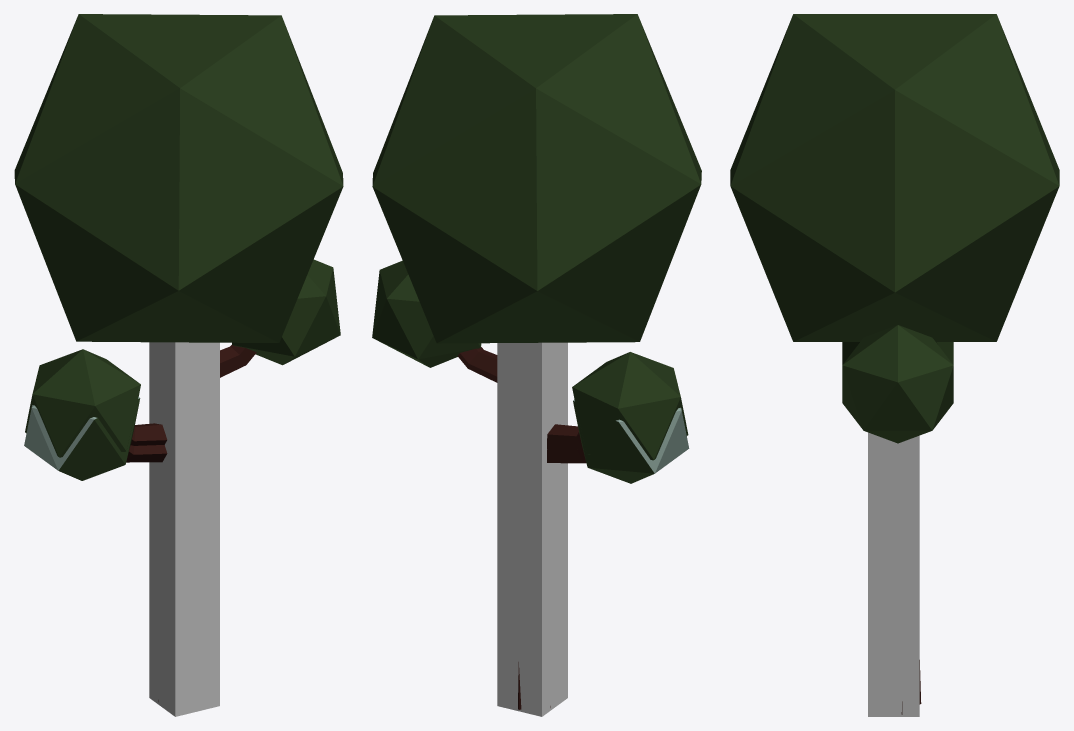
Rendered from tree.obj.
3 renders of one model, left to right at view 1: azimuth 30°, elevation 25°; view 2: azimuth 150°, elevation 25°; view 3: azimuth 270°, elevation 25°, orthographic.
Visible parts, largest first — view 1: tree1_Cylinder.001, col-colonly_Cube, tree3_Cylinder.003; view 2: tree1_Cylinder.001, col-colonly_Cube, tree3_Cylinder.003; view 3: tree1_Cylinder.001, col-colonly_Cube, tree3_Cylinder.003.
Boxes of the visible parts, x1,y1,x2,y2 form: tree1_Cylinder.001: (14,14,343,457); col-colonly_Cube: (149,342,219,716); tree3_Cylinder.003: (24,291,340,701); tree1_Cylinder.001: (372,14,701,460); col-colonly_Cube: (497,342,567,716); tree3_Cylinder.003: (372,291,689,709); tree1_Cylinder.001: (730,14,1059,430); col-colonly_Cube: (868,432,919,716); tree3_Cylinder.003: (794,293,995,714).
Bounding box in the file's own units: 3.08 × 5.96 × 2.67.
